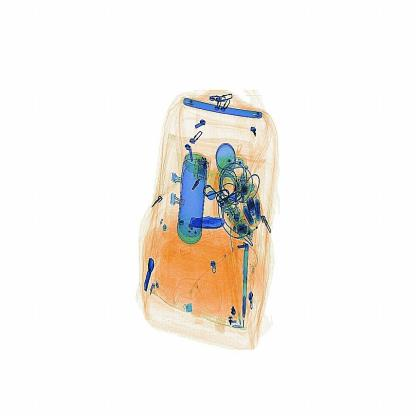knife: (190, 211, 230, 234)
